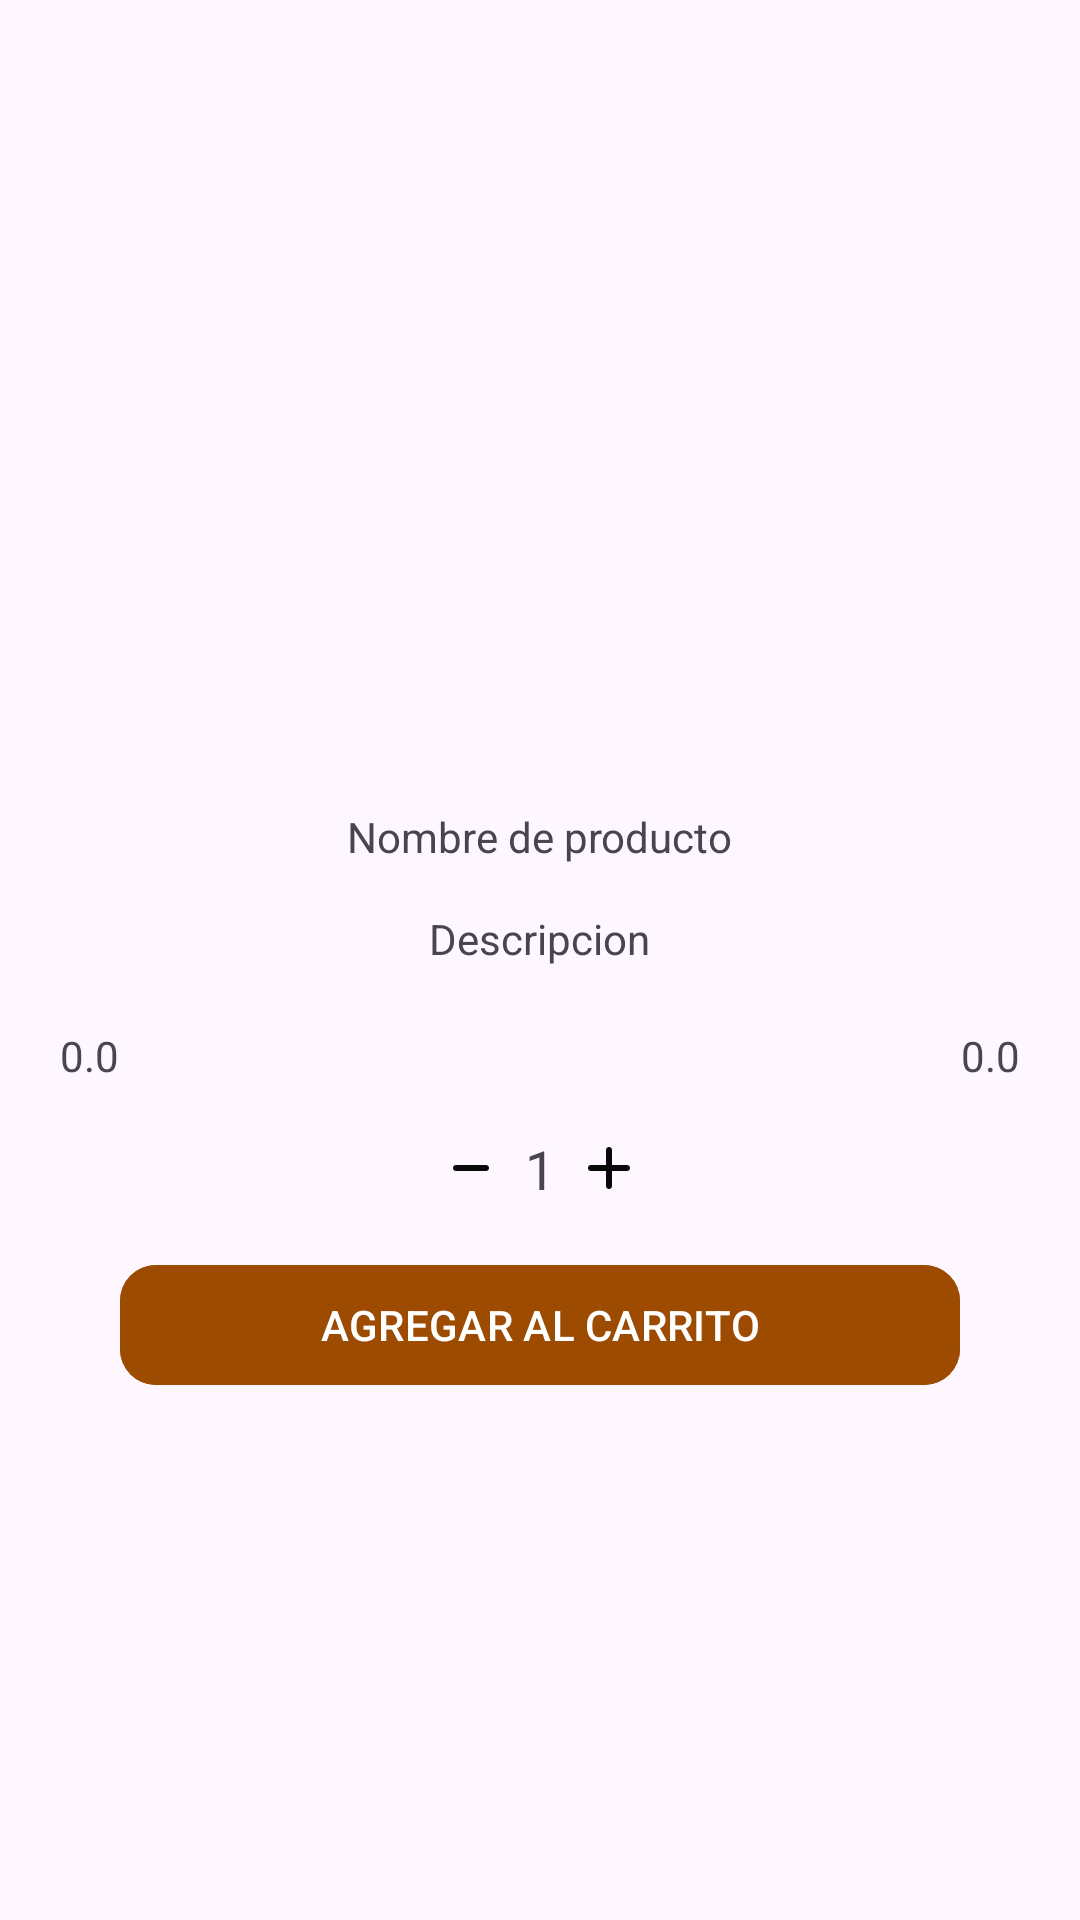

Where icons sit on this 1080px x 1920px app screen, as box=[x1, y1, x2, y2]:
add: box=[588, 1147, 630, 1189]
remove: box=[453, 1165, 489, 1171]
